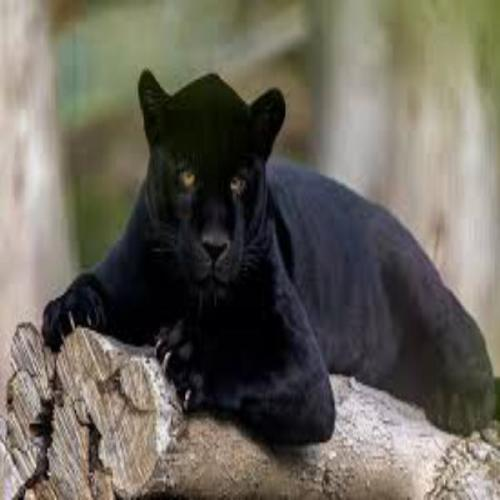panther-endangered: (44, 74, 498, 447)
